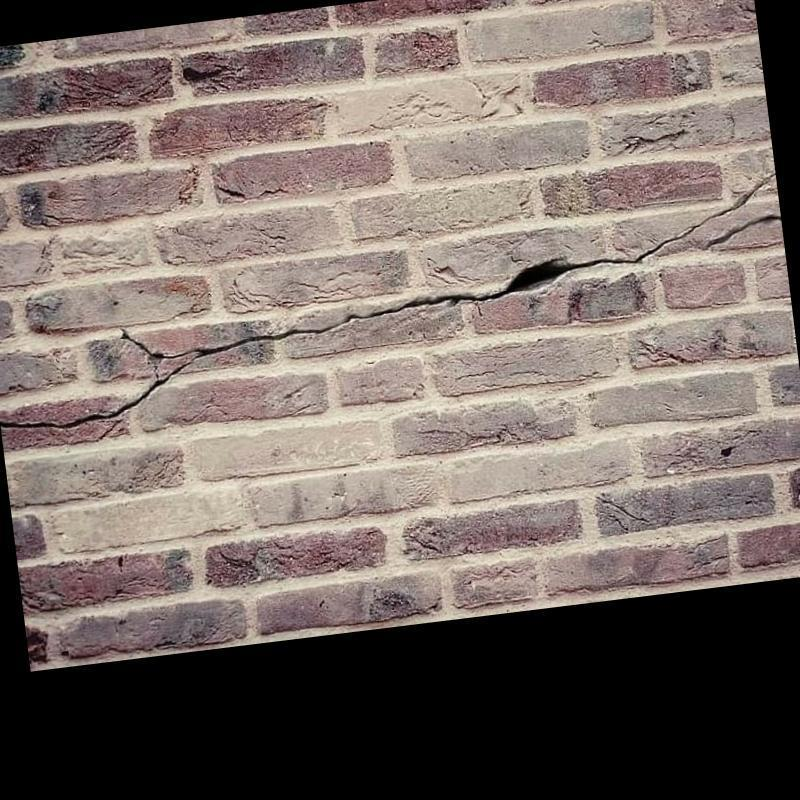pothole: (0, 172, 775, 428)
